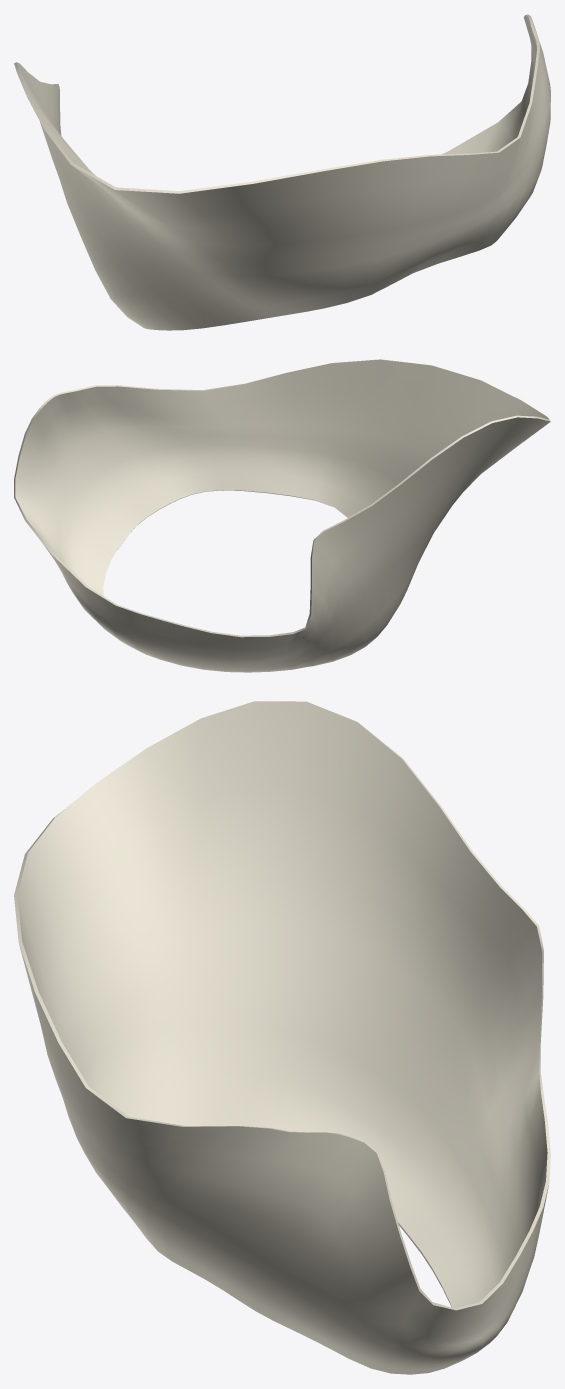
3 views of the same model, one above another, from view 1: azimuth 30°, elevation 25°; view 2: azimuth 150°, elevation 25°; view 3: azimuth 270°, elevation 25° (orthographic). The views are drawn at different scales.
Visible parts, largest first — view 1: ZA_4553e6b351cb6b28; view 2: ZA_4553e6b351cb6b28; view 3: ZA_4553e6b351cb6b28.
Part boxes in pixels (left/top/right/bottom): ZA_4553e6b351cb6b28: left=14, top=14, right=550, bottom=330; ZA_4553e6b351cb6b28: left=14, top=359, right=550, bottom=672; ZA_4553e6b351cb6b28: left=14, top=701, right=550, bottom=1374.
Size of the model in its own units: 0.0229 by 0.0129 by 0.0147.
